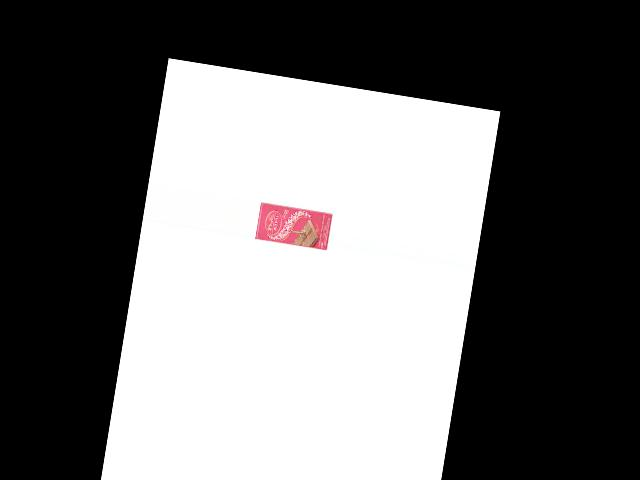chocolate: (254, 200, 332, 254)
